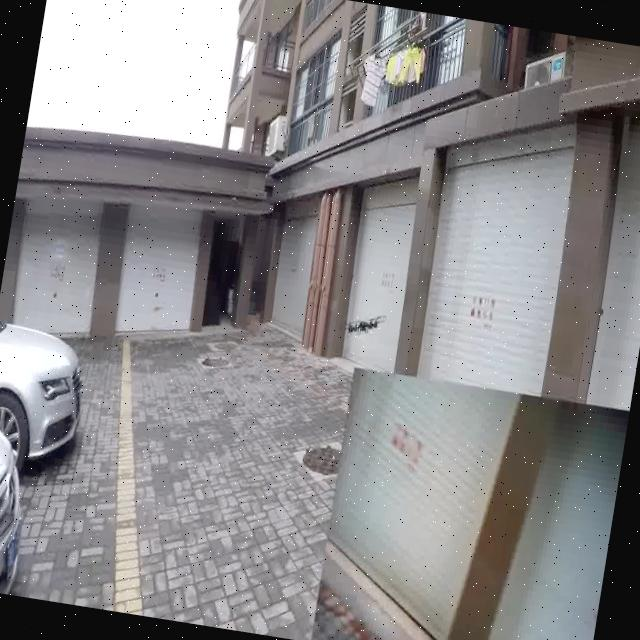drone: (342, 305, 388, 339)
